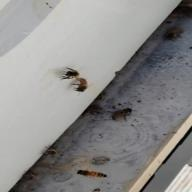Bee: (73, 166, 117, 183), (50, 65, 89, 80), (71, 76, 94, 92)
